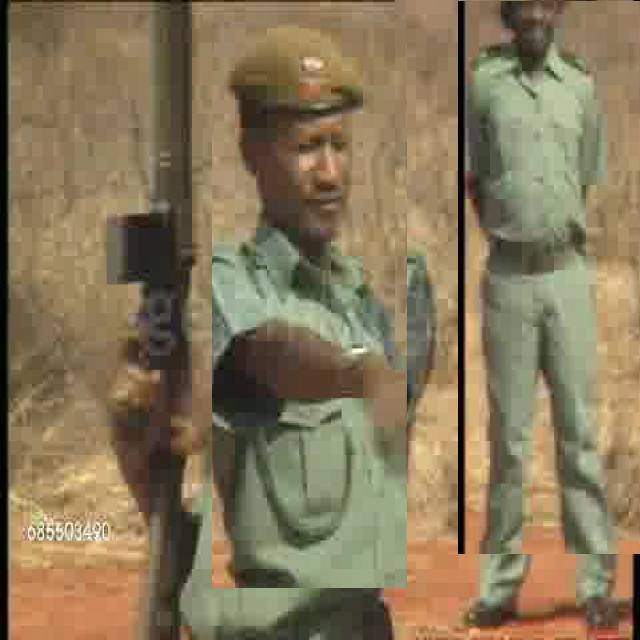poacher: (212, 21, 407, 588), (458, 1, 640, 554)
weapon: (112, 2, 190, 620)
